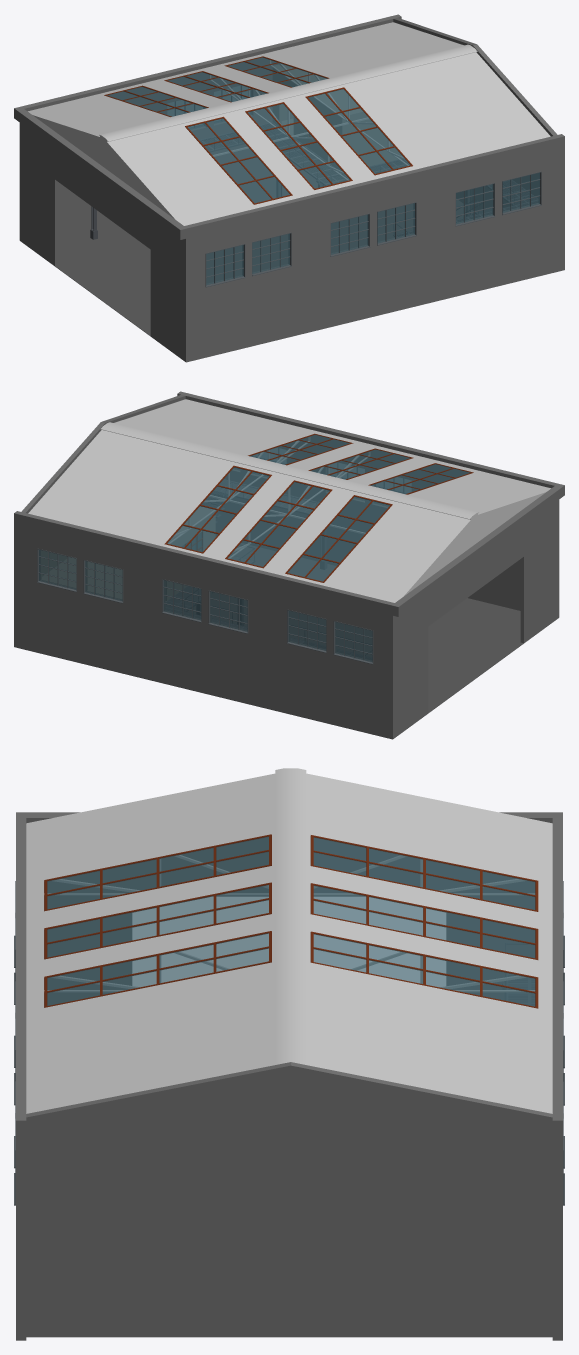
Rendered from Warehouse.obj.
The picture shows the model from 3 angles, top to bottom: view 1: azimuth 30°, elevation 25°; view 2: azimuth 150°, elevation 25°; view 3: azimuth 270°, elevation 25°; orthographic projection. The views are drawn at different scales.
Parts seen in each view (by area): view 1: Walls, Roof, Glass, Floor, Roof_windows, windows_right_metal, Small_Room, Roof_support, Metal_Plate_4, Metal_Plate_3, Metal_Plate_7; view 2: Walls, Roof, Glass, Floor, Roof_windows, windows_left, Small_Room, Roof_support, Metal_Plate_8, Metal_Plate_3; view 3: Walls, Roof, Glass, Roof_windows, Roof_support.
Part boxes in pixels (left/top/right/bottom): Walls: left=14, top=14, right=564, bottom=362; Roof: left=28, top=22, right=550, bottom=225; Glass: left=107, top=57, right=539, bottom=285; Floor: left=20, top=173, right=472, bottom=361; Roof_windows: left=104, top=56, right=412, bottom=204; windows_right_metal: left=205, top=171, right=541, bottom=287; Small_Room: left=273, top=64, right=402, bottom=170; Roof_support: left=209, top=60, right=408, bottom=180; Metal_Plate_4: left=291, top=153, right=349, bottom=185; Metal_Plate_3: left=226, top=122, right=313, bottom=157; Metal_Plate_7: left=488, top=180, right=537, bottom=210; Walls: left=14, top=391, right=564, bottom=738; Roof: left=28, top=399, right=550, bottom=602; Glass: left=39, top=434, right=470, bottom=662; Floor: left=18, top=543, right=558, bottom=739; Roof_windows: left=164, top=433, right=473, bottom=582; windows_left: left=37, top=548, right=373, bottom=664; Small_Room: left=41, top=506, right=215, bottom=600; Roof_support: left=168, top=437, right=369, bottom=558; Metal_Plate_8: left=220, top=482, right=319, bottom=513; Metal_Plate_3: left=166, top=586, right=200, bottom=618; Walls: left=16, top=812, right=562, bottom=1340; Roof: left=26, top=768, right=552, bottom=1113; Glass: left=47, top=836, right=535, bottom=1006; Roof_windows: left=44, top=834, right=538, bottom=1008; Roof_support: left=44, top=855, right=534, bottom=991.
Size of the model in its own units: 29.16 by 11.99 by 22.02.
